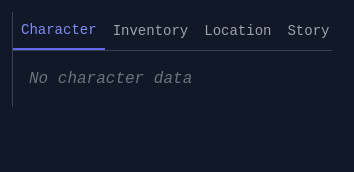
it: Sidebar › renders Story tab with null game state shows no story data
Click the button "Story" at [308, 31], box [280,12,338,50]
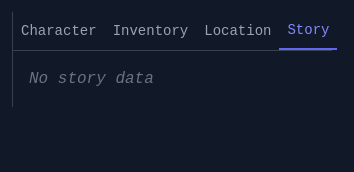
Now the text "No story data" is shown, box [29,70,154,88]
